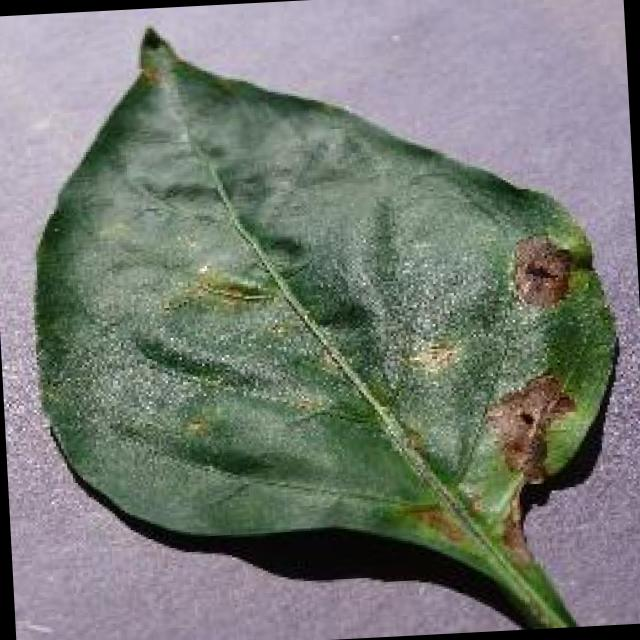Chilli_Bacterial_Spot: (12, 0, 636, 640), (478, 369, 582, 491), (157, 260, 275, 323), (507, 232, 578, 313), (129, 19, 185, 89), (402, 498, 472, 550), (398, 330, 464, 380), (175, 408, 214, 445)
